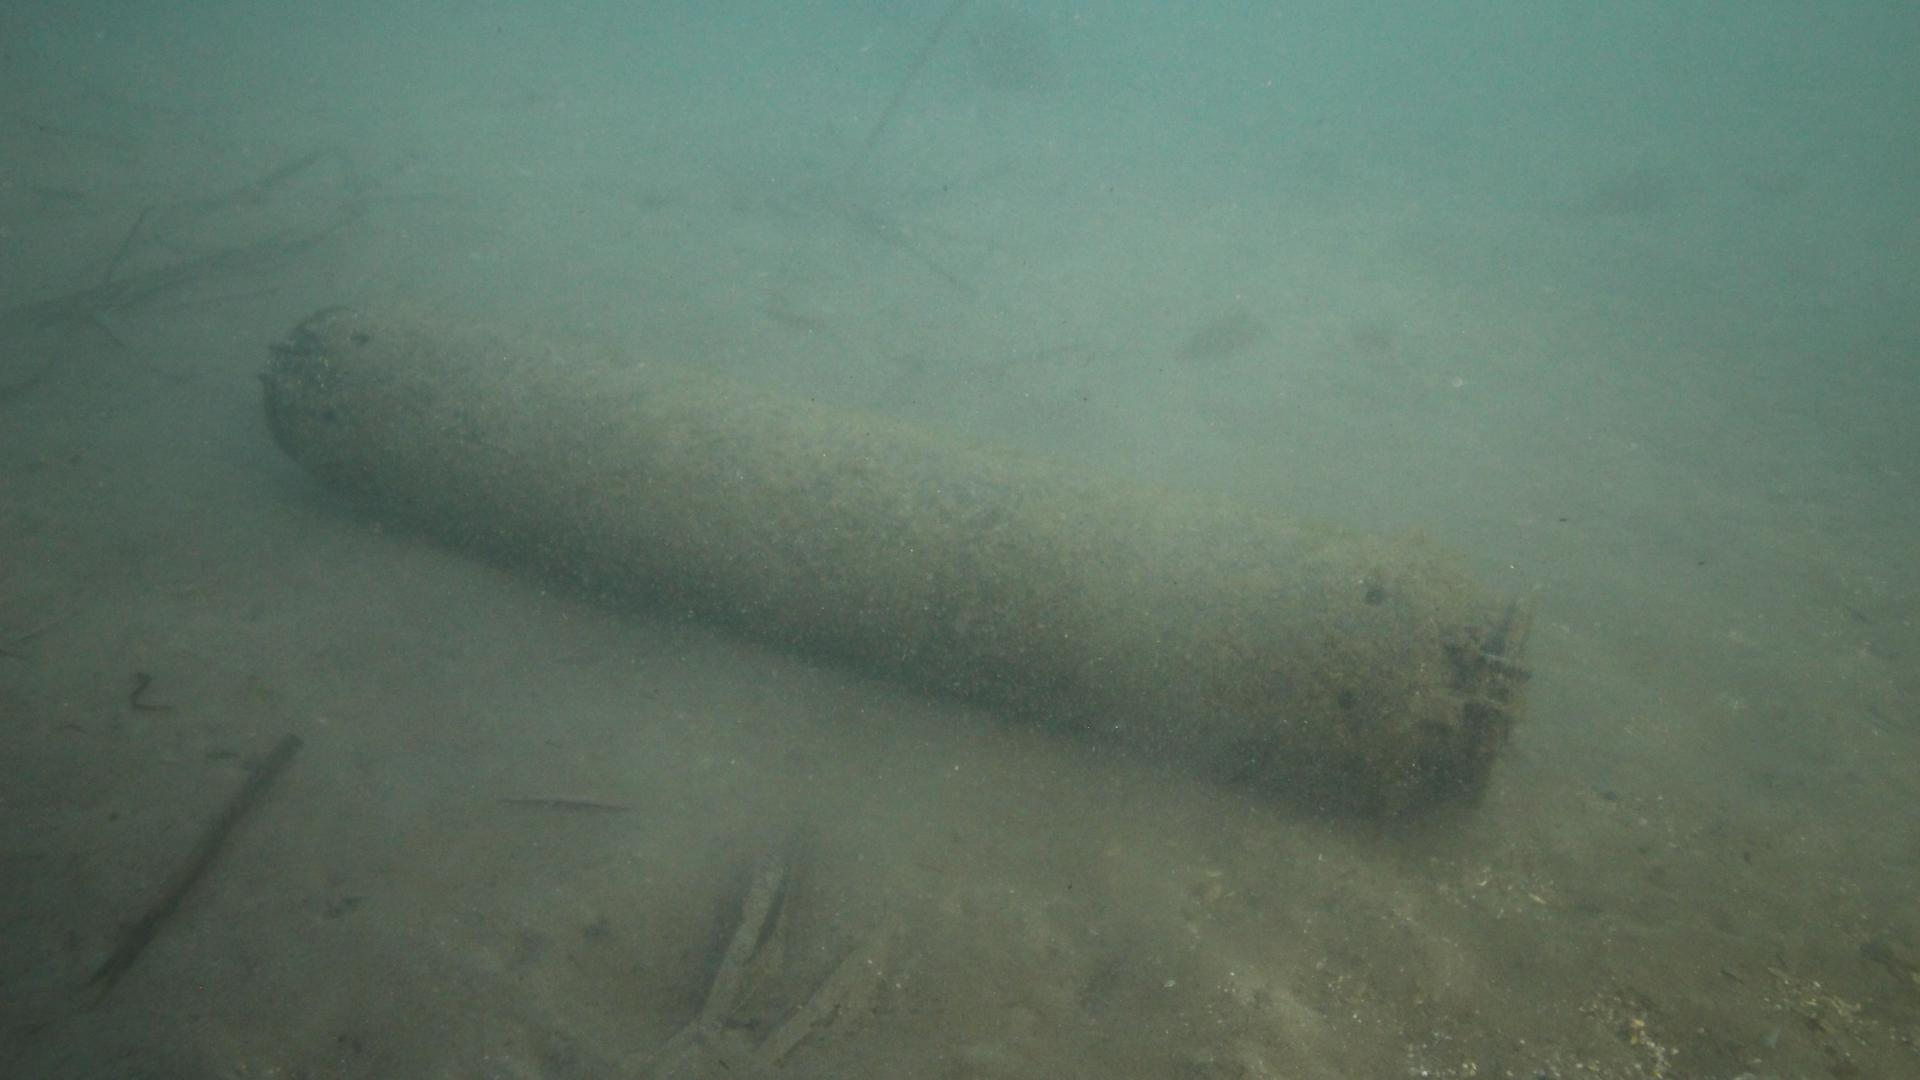eel fish trap: (257, 293, 1540, 818)
